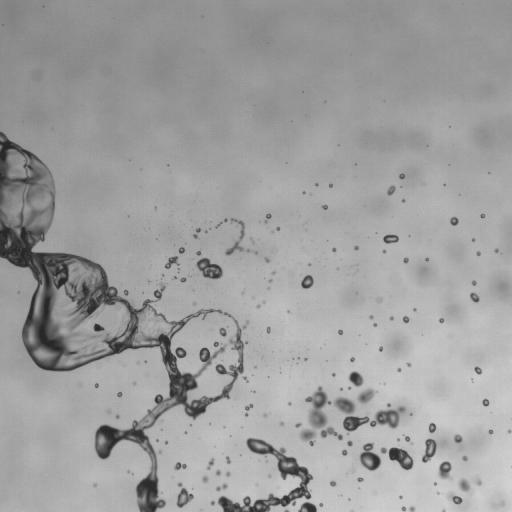droplet: (210, 437, 316, 511), (299, 386, 405, 445), (225, 218, 250, 255), (359, 443, 381, 471), (195, 258, 222, 279), (176, 482, 193, 507), (357, 388, 376, 403), (438, 461, 451, 479), (348, 371, 363, 386), (446, 491, 462, 504), (164, 256, 179, 268), (301, 275, 313, 289), (458, 478, 470, 492), (382, 234, 398, 243), (174, 462, 186, 470), (470, 292, 479, 302), (387, 185, 395, 195), (428, 423, 436, 433), (450, 217, 458, 225), (474, 366, 482, 374), (219, 328, 226, 336), (482, 398, 489, 406), (474, 478, 481, 485), (403, 316, 409, 323), (245, 404, 252, 410), (202, 476, 208, 482), (179, 247, 184, 253), (180, 277, 186, 282), (243, 376, 248, 382), (295, 422, 301, 427), (405, 436, 410, 442), (342, 449, 347, 455), (357, 477, 363, 482), (330, 481, 336, 486), (409, 506, 415, 511), (226, 456, 230, 463), (399, 173, 404, 178), (264, 257, 269, 262), (347, 441, 352, 446), (225, 471, 230, 476), (266, 327, 270, 333), (322, 205, 327, 209), (480, 213, 484, 218), (196, 251, 201, 255), (403, 258, 408, 262), (124, 290, 128, 295), (377, 297, 382, 301), (439, 318, 444, 322), (350, 357, 354, 362), (406, 362, 411, 366), (117, 392, 122, 396), (462, 456, 467, 460), (216, 470, 220, 475), (354, 246, 358, 250), (476, 251, 480, 255), (472, 281, 476, 285), (256, 304, 260, 308), (369, 315, 373, 319), (389, 316, 393, 320), (338, 330, 342, 334), (397, 368, 401, 372), (263, 413, 267, 417), (401, 507, 405, 511), (95, 383, 98, 388), (488, 430, 493, 433), (271, 271, 275, 274), (508, 429, 511, 433), (332, 248, 335, 251), (495, 249, 498, 252), (382, 250, 385, 253), (269, 279, 272, 282), (379, 347, 382, 350), (332, 373, 335, 376), (116, 415, 119, 418), (93, 483, 96, 486), (399, 495, 402, 498), (319, 503, 322, 506), (441, 509, 445, 511), (402, 199, 404, 202), (224, 219, 227, 221), (276, 227, 279, 229), (251, 239, 253, 242), (425, 258, 428, 260), (177, 269, 180, 271), (174, 276, 176, 279), (374, 323, 376, 326), (347, 387, 350, 389), (288, 402, 291, 404), (280, 422, 283, 424), (254, 251, 256, 253), (193, 303, 195, 305), (133, 382, 135, 384)
ligament: (0, 131, 249, 511), (380, 447, 413, 470), (422, 438, 436, 462), (454, 434, 464, 450), (216, 483, 227, 491), (193, 228, 200, 238), (207, 458, 213, 469), (265, 213, 271, 222), (216, 222, 221, 227)
